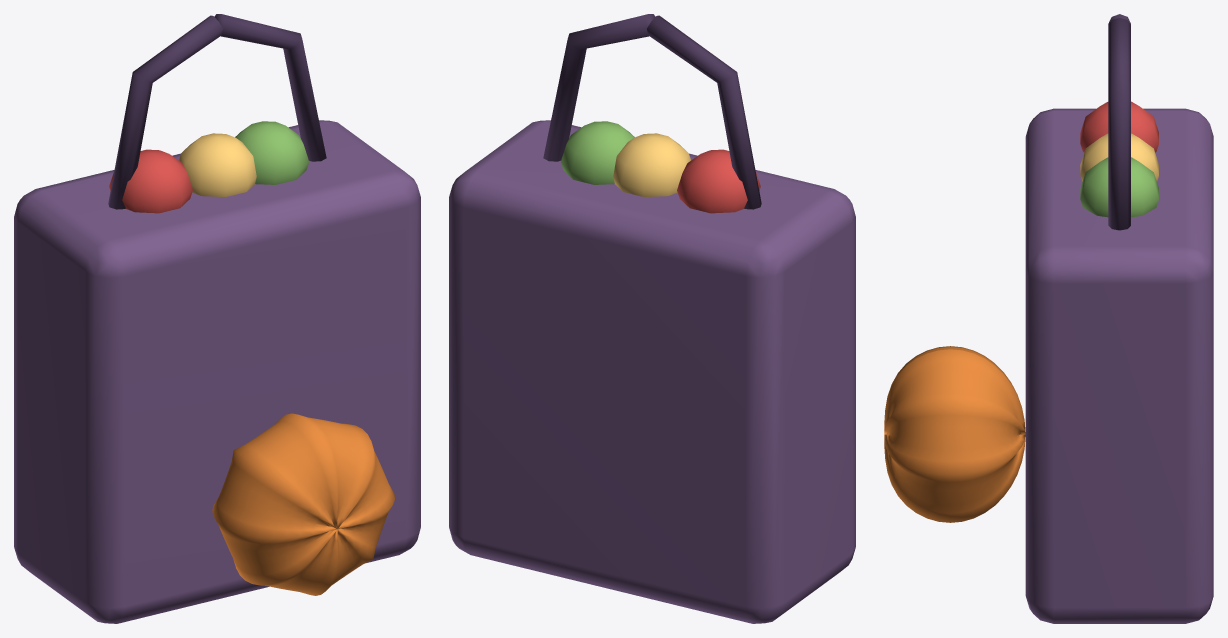
Rendered from trick_or_treat_bag.fbx.
3 views of the same model, side by side, from view 1: azimuth 30°, elevation 25°; view 2: azimuth 150°, elevation 25°; view 3: azimuth 270°, elevation 25° (orthographic).
Parts seen in each view (by area): view 1: LH_trick_or_treat_bag; view 2: LH_trick_or_treat_bag; view 3: LH_trick_or_treat_bag.
Boxes of the visible parts, left/top/right/bottom form: LH_trick_or_treat_bag: left=14, top=14, right=420, bottom=623; LH_trick_or_treat_bag: left=449, top=14, right=855, bottom=623; LH_trick_or_treat_bag: left=884, top=14, right=1213, bottom=623.
Bounding box in the file's own units: 0.2 × 0.3155 × 0.1752.
